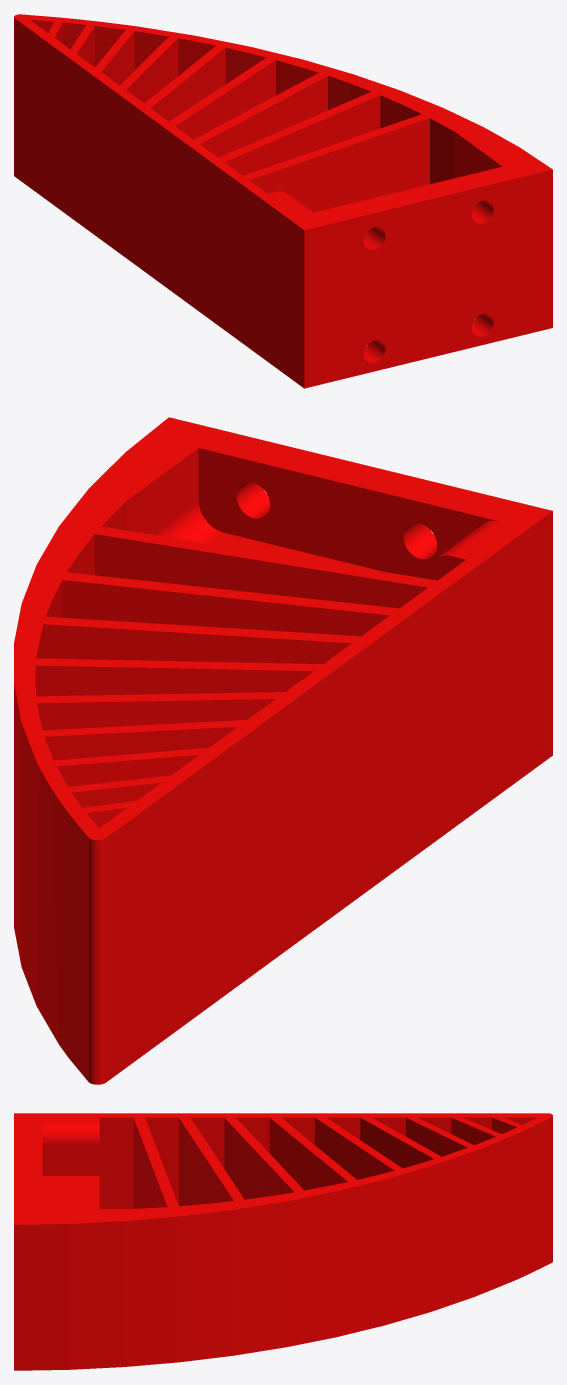
Rendered from left_arm_2_hand_1_gripper_2.glb.
The picture shows the model from 3 angles, top to bottom: view 1: azimuth 30°, elevation 25°; view 2: azimuth 150°, elevation 25°; view 3: azimuth 270°, elevation 25°; orthographic projection. The views are drawn at different scales.
Visible parts, largest first — view 1: left_arm_2_hand_1_gripper_2.obj; view 2: left_arm_2_hand_1_gripper_2.obj; view 3: left_arm_2_hand_1_gripper_2.obj.
Part boxes in pixels (<box>): left_arm_2_hand_1_gripper_2.obj: <box>14,14,552,388</box>; left_arm_2_hand_1_gripper_2.obj: <box>14,417,552,1084</box>; left_arm_2_hand_1_gripper_2.obj: <box>14,1113,552,1370</box>.
Bounding box in the file's own units: 0.046 × 0.028 × 0.0938.
